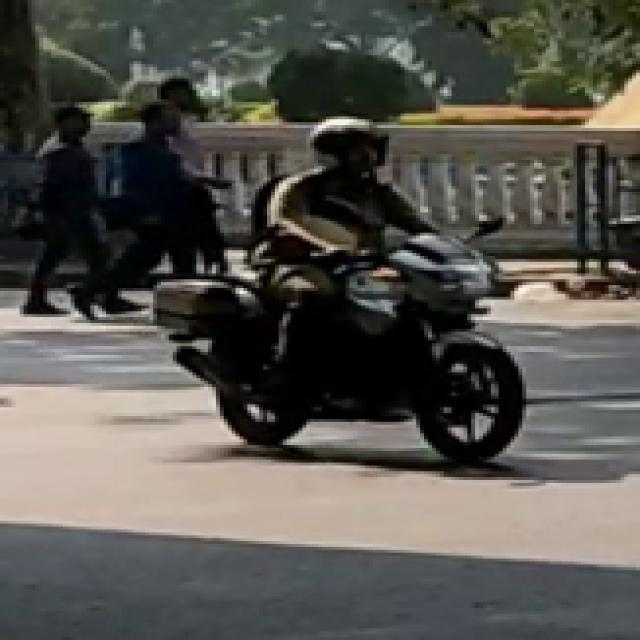Motorized2wheleer: (148, 202, 546, 477)
